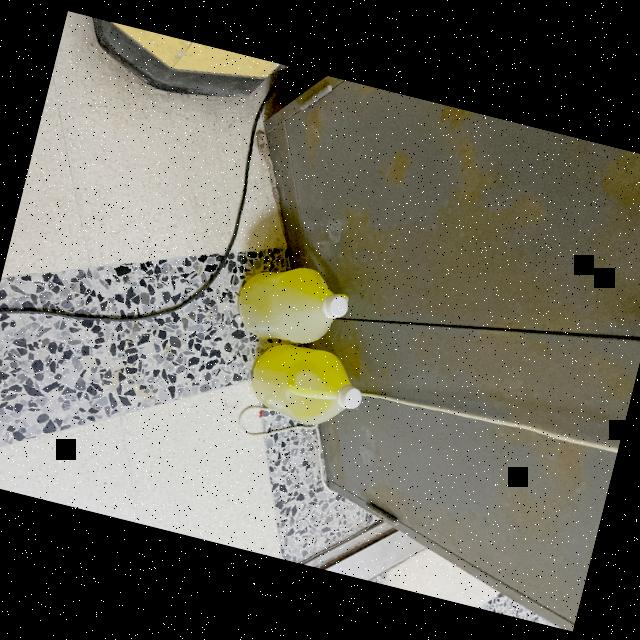chemical_plastic_gallon: (229, 242, 371, 362), (240, 332, 384, 438)
